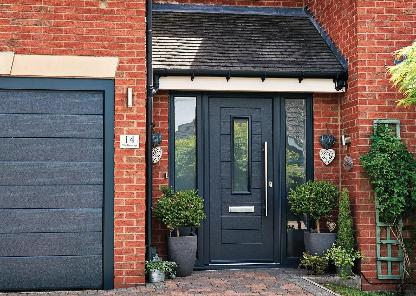door: (165, 87, 319, 269)
